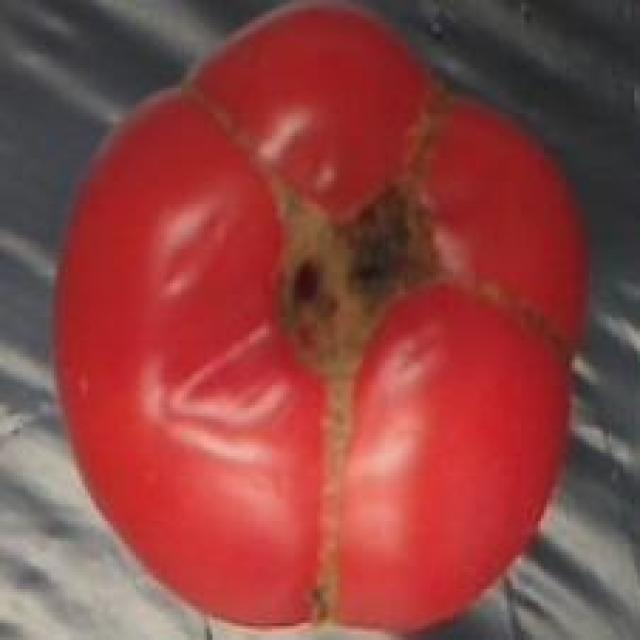overripe tomato: (45, 3, 600, 640)
